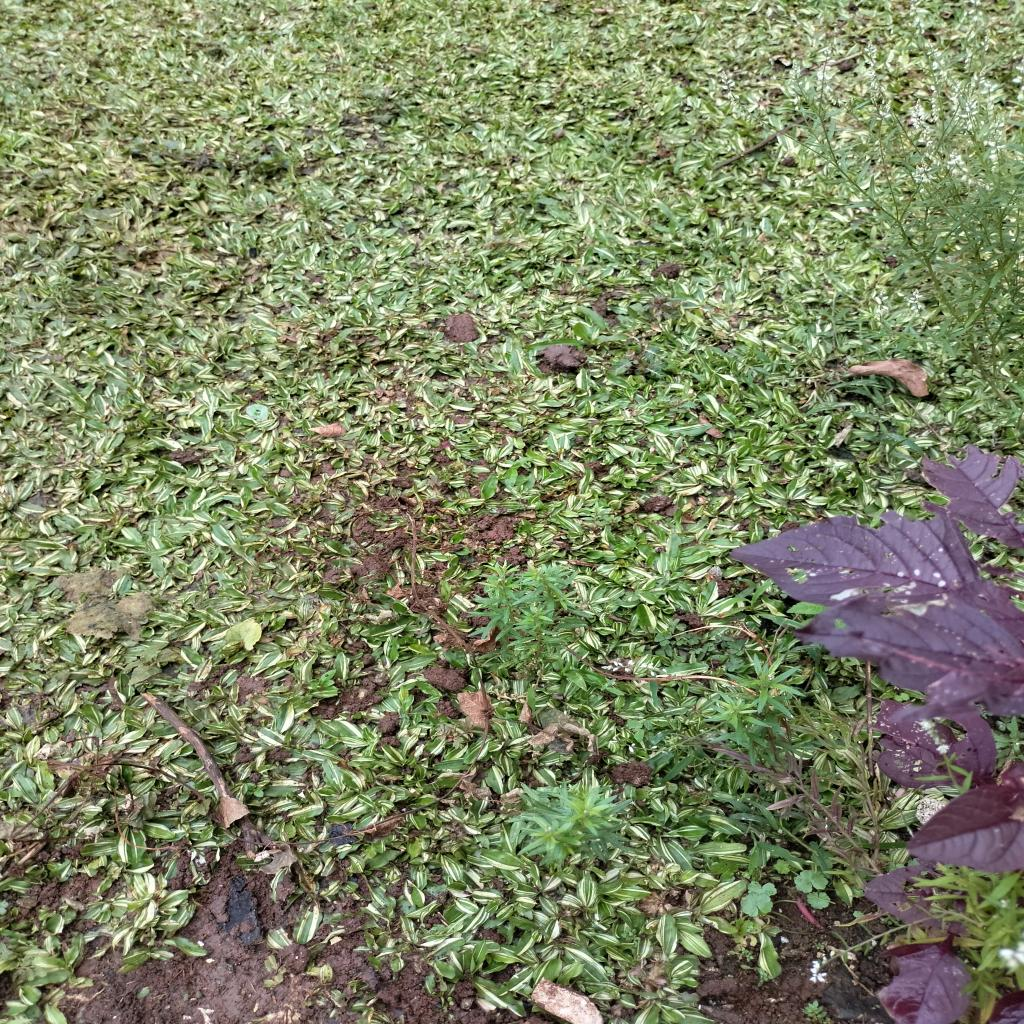akar wangi: (712, 1, 1024, 414), (706, 651, 808, 764), (468, 556, 582, 651), (508, 781, 635, 864)
bayi: (445, 994, 456, 1006)
buah daun: (607, 344, 674, 379), (430, 716, 485, 750), (638, 290, 687, 322), (654, 394, 702, 418)
lumut besar: (802, 1000, 828, 1020), (619, 925, 643, 942)
masker: (738, 877, 778, 920), (794, 866, 829, 893), (806, 890, 834, 910), (771, 855, 796, 877)
rambat atas: (810, 282, 854, 354), (745, 832, 811, 878), (738, 767, 781, 831), (648, 672, 684, 744), (714, 577, 774, 615), (746, 348, 805, 374), (827, 376, 884, 402)
rambat bawah: (526, 322, 632, 354), (504, 454, 540, 488)
